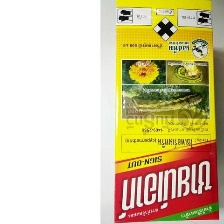carton: (110, 0, 221, 223)
